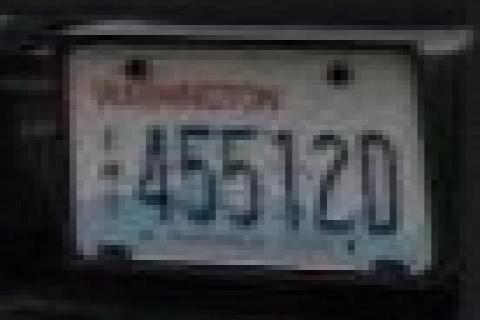LicensePlate: (51, 32, 439, 282)
